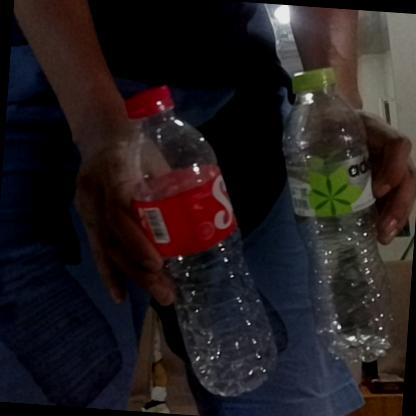plastic_bottles: (112, 76, 296, 402), (263, 58, 416, 362)
